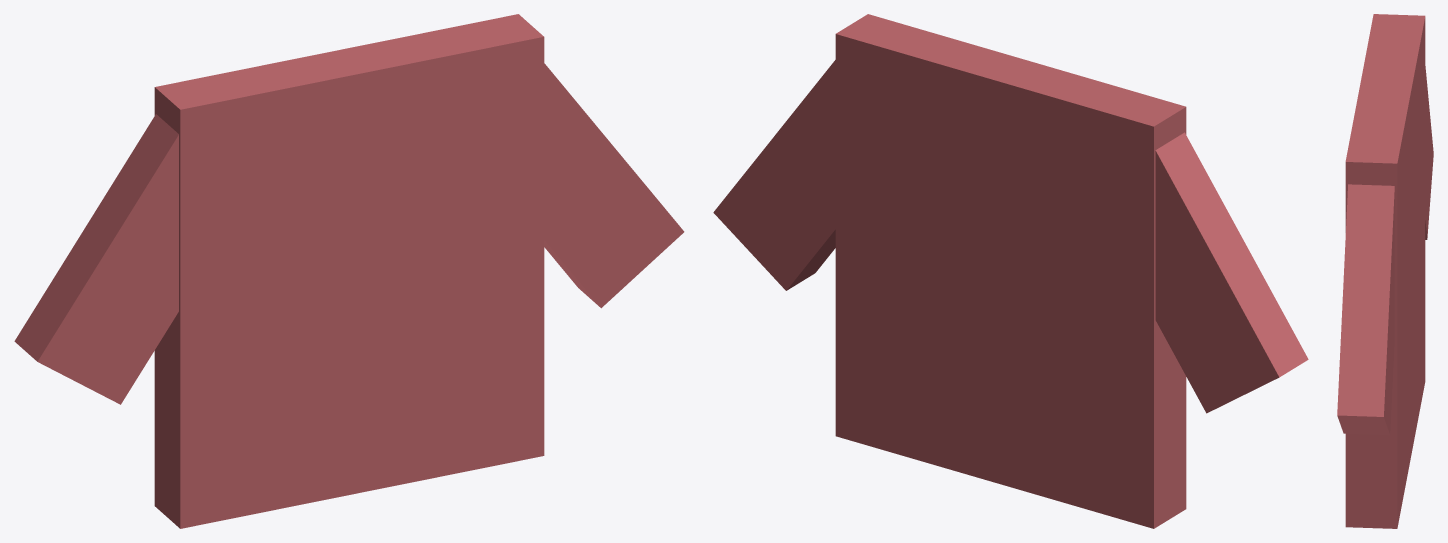
Rendered from dress-002.v1.glb.
3 views of the same model, side by side, from view 1: azimuth 30°, elevation 25°; view 2: azimuth 150°, elevation 25°; view 3: azimuth 270°, elevation 25° (orthographic). The views are drawn at different scales.
Visible parts, largest first — view 1: Garment; view 2: Garment; view 3: Garment.
Boxes of the visible parts, x1,y1,x2,y2 form: Garment: (14, 14, 684, 528); Garment: (713, 14, 1308, 528); Garment: (1337, 14, 1433, 528).
Bounding box in the file's own units: 2.41 × 1.55 × 0.3713.
